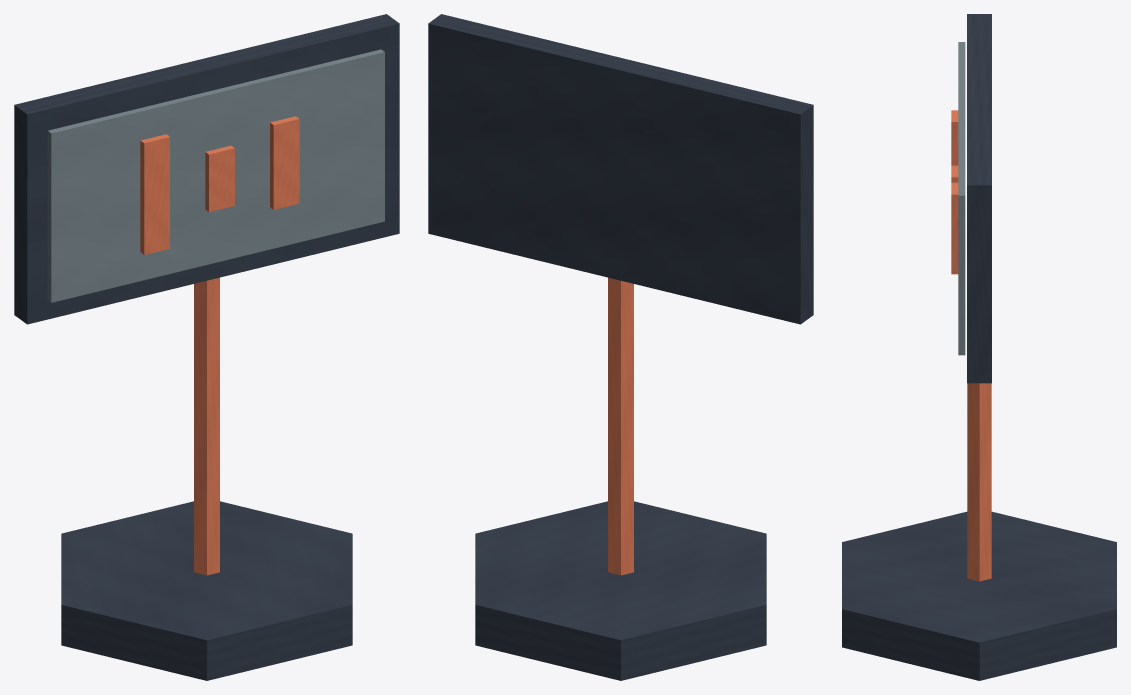
Rendered from atlas100-s023-a11.glb.
3 renders of one model, left to right at view 1: azimuth 30°, elevation 25°; view 2: azimuth 150°, elevation 25°; view 3: azimuth 270°, elevation 25°, orthographic. The views are drawn at different scales.
Visible parts, largest first — view 1: atlas100-s023-a11:part-003, atlas100-s023-a11:part-000, atlas100-s023-a11:part-002, atlas100-s023-a11:part-001, atlas100-s023-a11:part-004, atlas100-s023-a11:part-006, atlas100-s023-a11:part-005; view 2: atlas100-s023-a11:part-002, atlas100-s023-a11:part-000, atlas100-s023-a11:part-001; view 3: atlas100-s023-a11:part-000, atlas100-s023-a11:part-002, atlas100-s023-a11:part-001, atlas100-s023-a11:part-003, atlas100-s023-a11:part-006, atlas100-s023-a11:part-004.
Part boxes in pixels (x1=…): atlas100-s023-a11:part-003: x1=47, y1=49, x2=384, y2=302; atlas100-s023-a11:part-000: x1=61, y1=501, x2=352, y2=680; atlas100-s023-a11:part-002: x1=14, y1=14, x2=399, y2=324; atlas100-s023-a11:part-001: x1=194, y1=277, x2=219, y2=575; atlas100-s023-a11:part-004: x1=140, y1=134, x2=169, y2=254; atlas100-s023-a11:part-006: x1=270, y1=116, x2=299, y2=209; atlas100-s023-a11:part-005: x1=205, y1=145, x2=234, y2=211; atlas100-s023-a11:part-002: x1=428, y1=14, x2=813, y2=324; atlas100-s023-a11:part-000: x1=475, y1=501, x2=766, y2=680; atlas100-s023-a11:part-001: x1=608, y1=277, x2=633, y2=575; atlas100-s023-a11:part-000: x1=842, y1=511, x2=1116, y2=680; atlas100-s023-a11:part-002: x1=967, y1=14, x2=991, y2=383; atlas100-s023-a11:part-001: x1=967, y1=383, x2=991, y2=581; atlas100-s023-a11:part-003: x1=958, y1=42, x2=965, y2=355; atlas100-s023-a11:part-006: x1=951, y1=182, x2=958, y2=274; atlas100-s023-a11:part-004: x1=951, y1=110, x2=958, y2=165.
Size of the model in its own units: 1.15 by 1.61 by 0.7794.
3 materials, 3 textured.
